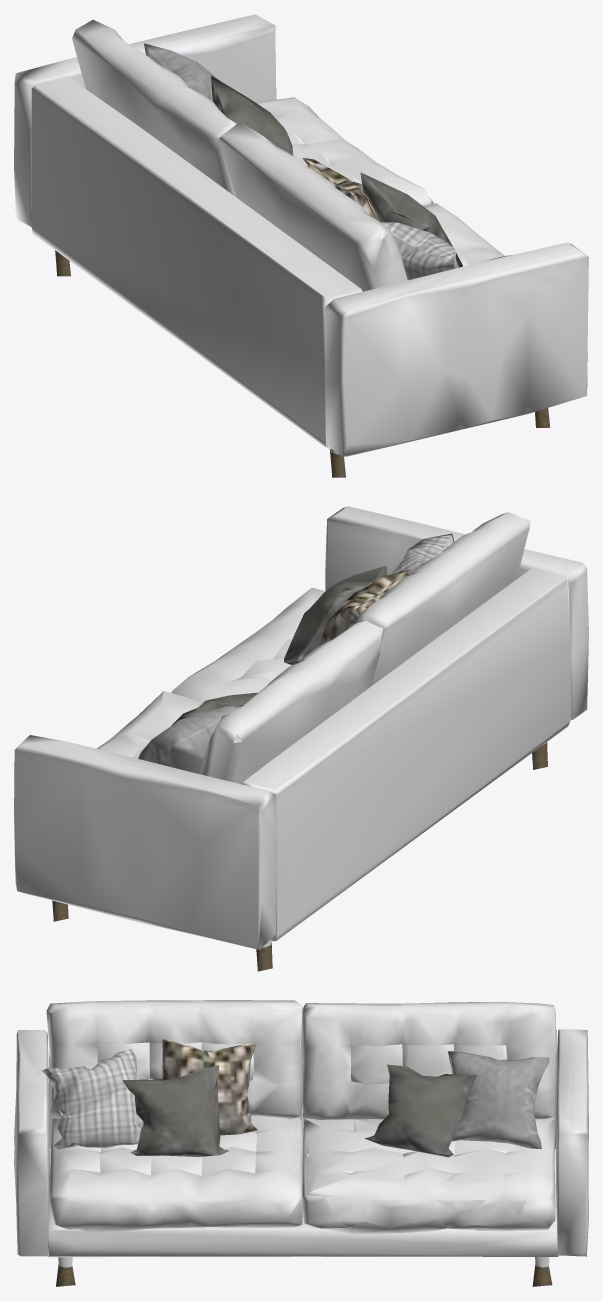
File: M_Sofa0011.obj
The picture shows the model from 3 angles, top to bottom: view 1: azimuth 30°, elevation 25°; view 2: azimuth 150°, elevation 25°; view 3: azimuth 270°, elevation 25°; orthographic projection. The views are drawn at different scales.
Bounding box in the file's own units: 0.86 × 0.753 × 1.86.
Materials: 1 (1 with a texture image).
